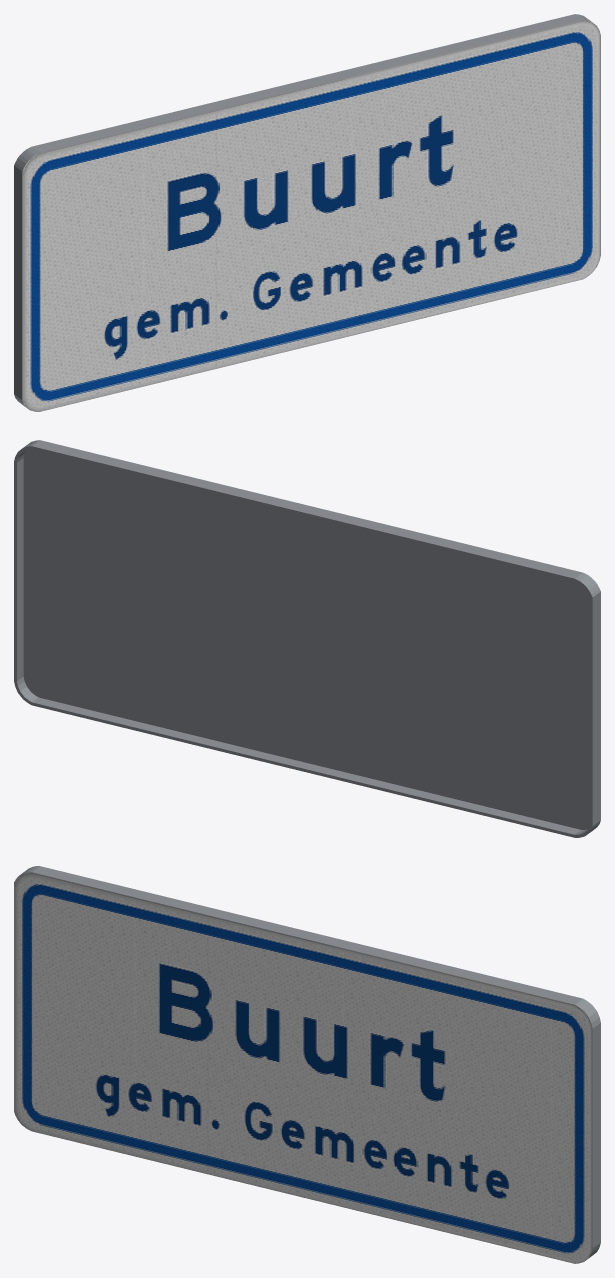
3 renders of one model, top to bottom at view 1: azimuth 30°, elevation 25°; view 2: azimuth 150°, elevation 25°; view 3: azimuth 330°, elevation 25°, orthographic.
Parts seen in each view (by area): view 1: cat_e956abd6ef2dcb94; view 2: cat_e956abd6ef2dcb94; view 3: cat_e956abd6ef2dcb94.
Part boxes in pixels (x1,y1,x2,y2): cat_e956abd6ef2dcb94: [14, 14, 600, 411]; cat_e956abd6ef2dcb94: [14, 440, 600, 837]; cat_e956abd6ef2dcb94: [14, 866, 600, 1263].
Bounding box in the file's own units: 0.6 × 0.015 × 0.2568.
Materials: 2 (1 with a texture image).
